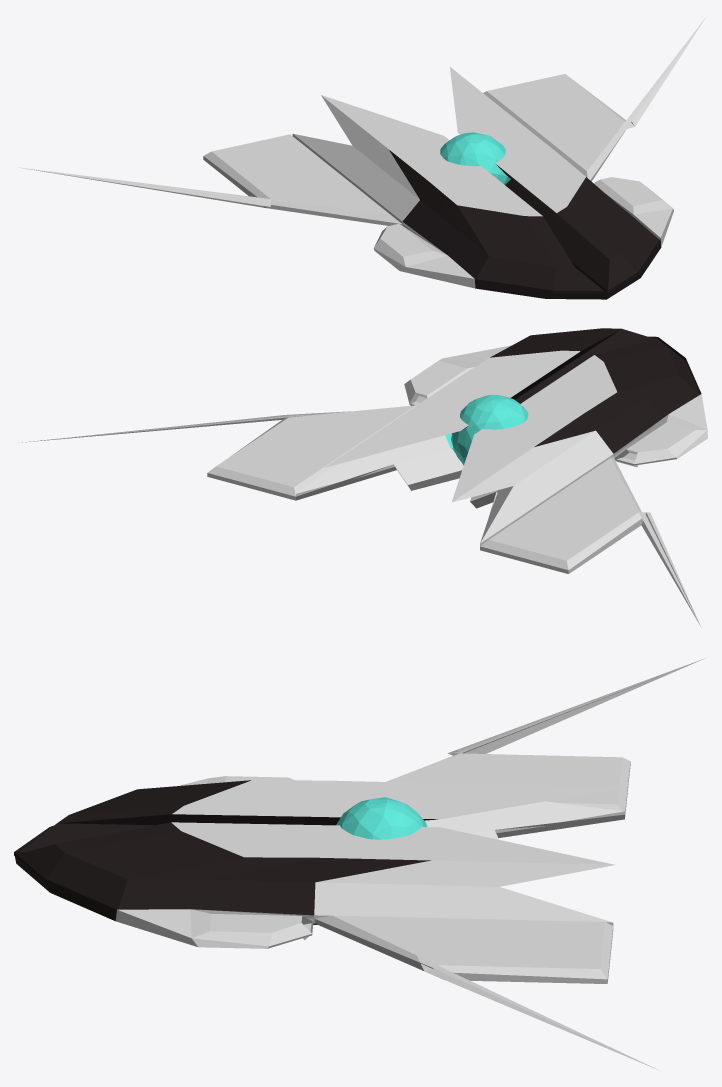
File: SpaceShip2.fbx
3 views of the same model, one above another, from view 1: azimuth 30°, elevation 25°; view 2: azimuth 150°, elevation 25°; view 3: azimuth 270°, elevation 25° (orthographic). The views are drawn at different scales.
Visible parts, largest first — view 1: Esfera.001, Esfera.002, Esfera.005, Esfera.003, Esfera; view 2: Esfera.001, Esfera.005, Esfera.003, Esfera.002, Esfera; view 3: Esfera.001, Esfera.002, Esfera.005, Esfera.003, Esfera.
Boxes of the visible parts, box(x1,y1,x2,y2) form: Esfera.001: box(18, 16, 706, 288); Esfera.002: box(389, 150, 661, 299); Esfera.005: box(321, 67, 585, 216); Esfera.003: box(292, 91, 587, 223); Esfera: box(440, 132, 510, 184); Esfera.001: box(18, 345, 707, 627); Esfera.005: box(324, 350, 616, 501); Esfera.003: box(294, 405, 613, 545); Esfera.002: box(463, 328, 701, 453); Esfera: box(445, 394, 528, 465); Esfera.001: box(115, 658, 705, 1071); Esfera.002: box(14, 780, 437, 924); Esfera.005: box(171, 780, 623, 864); Esfera.003: box(314, 801, 624, 925); Esfera: box(336, 797, 427, 839).
Size of the model in its own units: 7948 by 837 by 5611.
